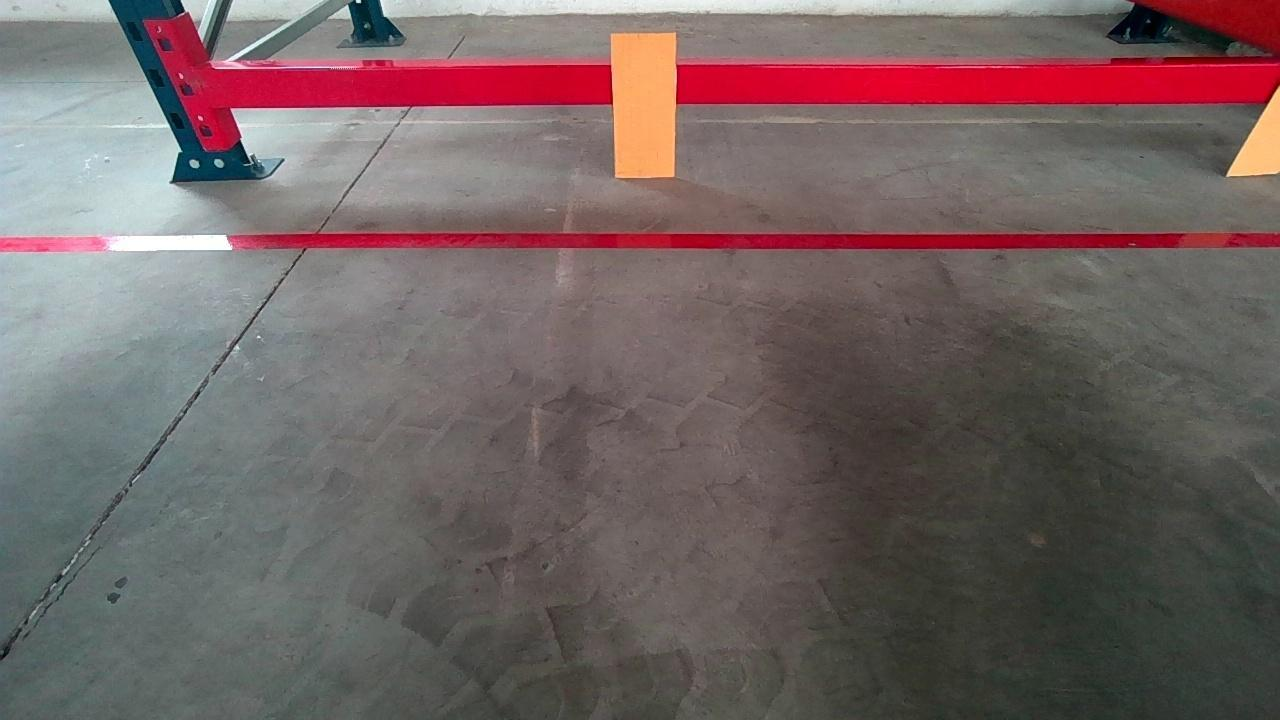h_rack: (206, 47, 1266, 118)
orange_strip: (612, 33, 678, 177), (1227, 87, 1280, 175)
red_line: (3, 227, 1277, 253)
